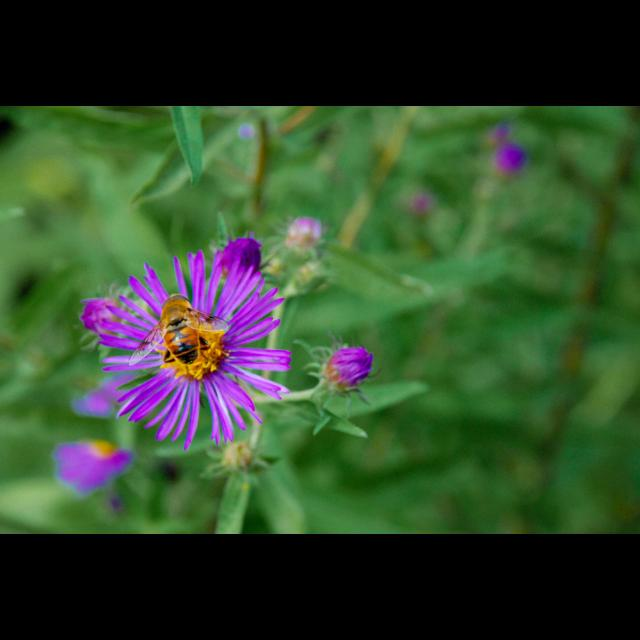Flower: (79, 239, 289, 461), (51, 437, 137, 495), (309, 342, 375, 398), (84, 284, 140, 346)
